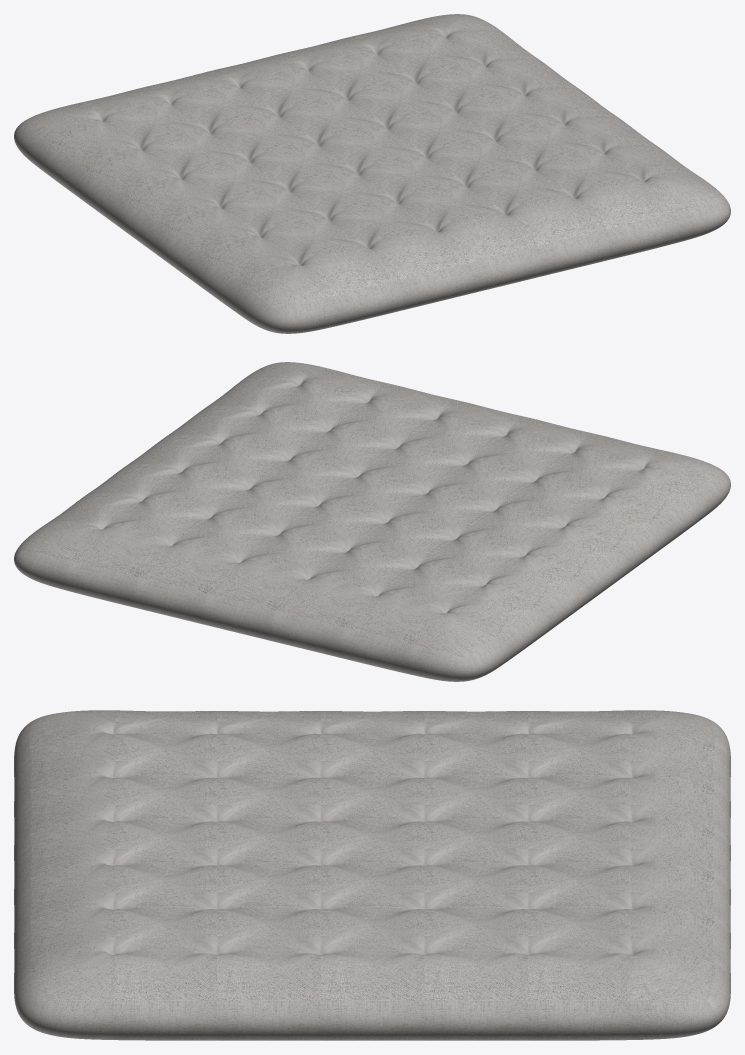
The model's file is obj_japanese_zabuton_016627.glb.
3 renders of one model, top to bottom at view 1: azimuth 30°, elevation 25°; view 2: azimuth 150°, elevation 25°; view 3: azimuth 270°, elevation 25°, orthographic. The views are drawn at different scales.
Visible parts, largest first — view 1: obj_japanese_zabuton_016627; view 2: obj_japanese_zabuton_016627; view 3: obj_japanese_zabuton_016627.
Part boxes in pixels (<box>): obj_japanese_zabuton_016627: <box>14,14,730,333</box>; obj_japanese_zabuton_016627: <box>14,362,730,681</box>; obj_japanese_zabuton_016627: <box>14,710,730,1040</box>.
Bounding box in the file's own units: 0.5 × 0.0602 × 0.4998.
1 material, 1 textured.
